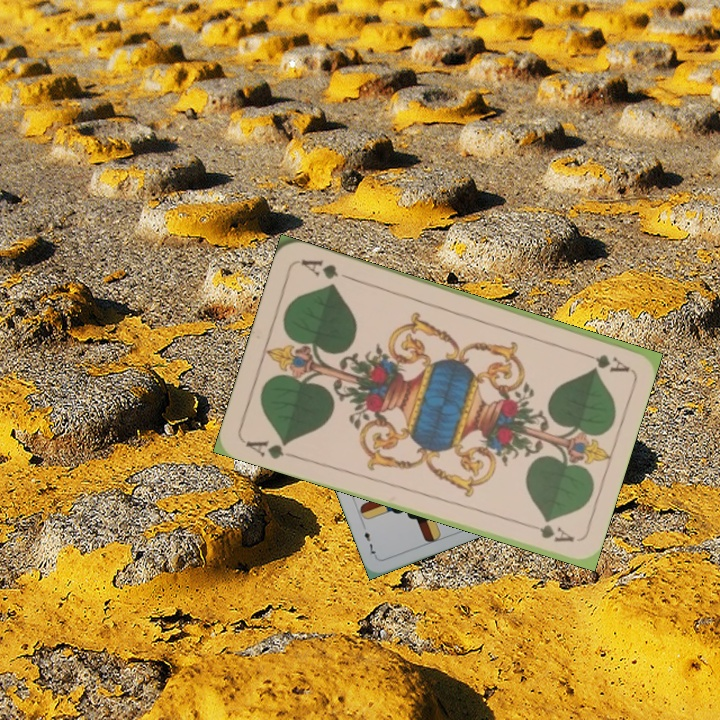GA: (573, 346, 631, 375), (241, 436, 300, 462)
